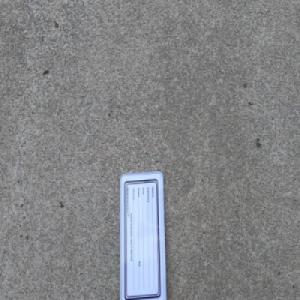LuggageTag: (118, 168, 169, 300)
